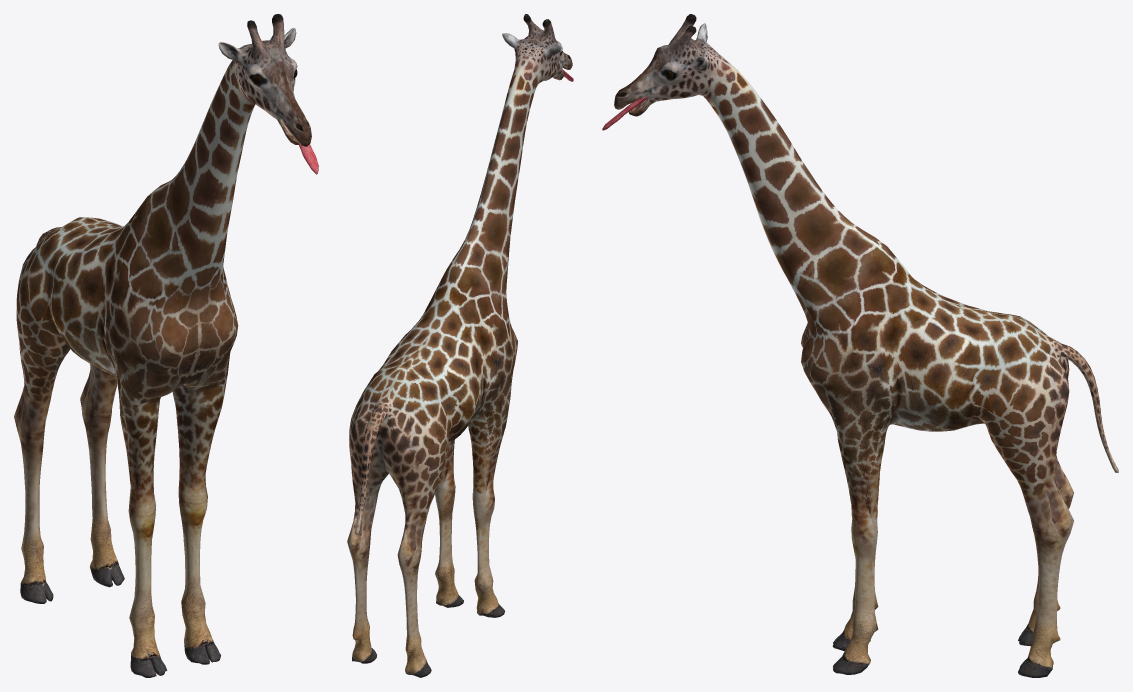
File: giraffeD.obj
3 renders of one model, left to right at view 1: azimuth 30°, elevation 25°; view 2: azimuth 150°, elevation 25°; view 3: azimuth 270°, elevation 25°, orthographic. The views are drawn at different scales.
Visible parts, largest first — view 1: Giraffe:Mesh group; view 2: Giraffe:Mesh group; view 3: Giraffe:Mesh group.
Boxes of the visible parts, bbox=[...] form: Giraffe:Mesh group: bbox=[14, 14, 318, 677]; Giraffe:Mesh group: bbox=[347, 14, 573, 677]; Giraffe:Mesh group: bbox=[602, 14, 1118, 677].
Bounding box in the file's own units: 23.86 × 137 × 100.
1 material, 1 textured.
